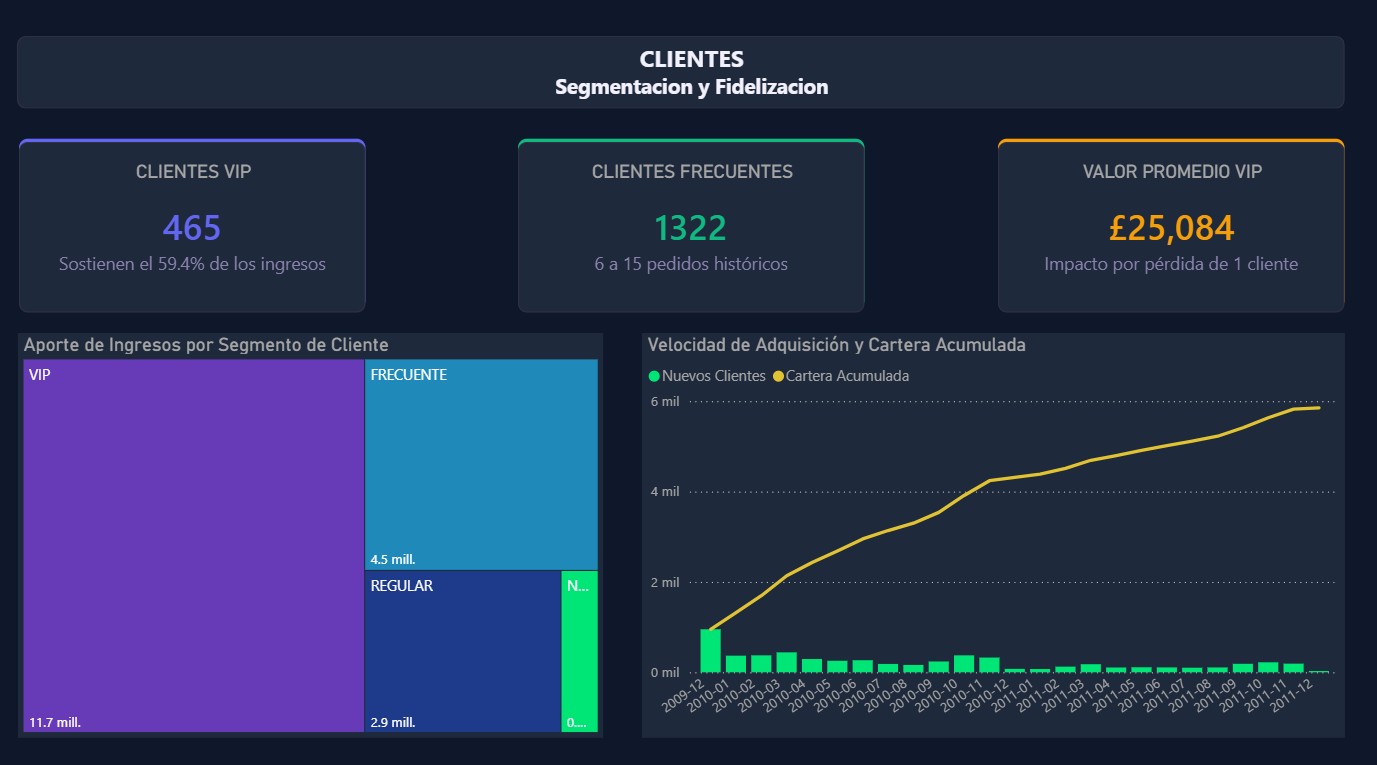

The dashboard page shown, as its layout file describes it:
{"tool":"powerbi","page":{"name":"Página 3","canvas":[1280,720],"ordinal":2},"visuals":[{"type":"shape","box":[33,47.9,1207,66],"z":0},{"type":"textbox","box":[42.9,48.1,1207.1,65.7],"z":1000},{"type":"treemap","title":"Aporte de Ingresos por Segmento de Cliente","fields":{"Group":["Consulta9.segmento"],"Values":["Avg(Consulta9.ingresos_totales)"]},"box":[33.3,317.8,532.2,367.8],"z":2000},{"type":"cardVisual","title":"CLIENTES VIP","fields":{"Data":["Avg(Consulta9.total_clientes)"]},"box":[34.6,144.5,315.2,154.6],"z":3000},{"type":"cardVisual","title":"CLIENTES FRECUENTES","fields":{"Data":["Avg(Consulta 9.total_clientes)"]},"box":[488.5,144.5,315.2,154.6],"z":4000},{"type":"cardVisual","title":"VALOR PROMEDIO VIP","fields":{"Data":["Sum(Consulta9.ingreso_por_cliente)"]},"box":[924.5,144.5,315.2,154.6],"z":5000},{"type":"lineClusteredColumnComboChart","title":"Velocidad de Adquisición y Cartera Acumulada","fields":{"Category":["Consulta 11.periodo_mes"],"Y":["Avg(Consulta 11.clientes_nuevos)"],"Y2":["Avg(Consulta 11.clientes_acumulados)"]},"box":[601.1,317.8,638.9,367.8],"z":6000}]}

Visuals, with their boxes in screenshot pixels (x1, y1, x2, y2), scaled from the page's 1280x720 canvas onto the 1377x765 screenshot:
shape: <bbox>36, 51, 1334, 121</bbox>
textbox: <bbox>46, 51, 1345, 121</bbox>
"Aporte de Ingresos por Segmento de Cliente" treemap: <bbox>36, 338, 608, 728</bbox>
"CLIENTES VIP" cardVisual: <bbox>37, 154, 376, 318</bbox>
"CLIENTES FRECUENTES" cardVisual: <bbox>526, 154, 865, 318</bbox>
"VALOR PROMEDIO VIP" cardVisual: <bbox>995, 154, 1334, 318</bbox>
"Velocidad de Adquisición y Cartera Acumulada" lineClusteredColumnComboChart: <bbox>647, 338, 1334, 728</bbox>
